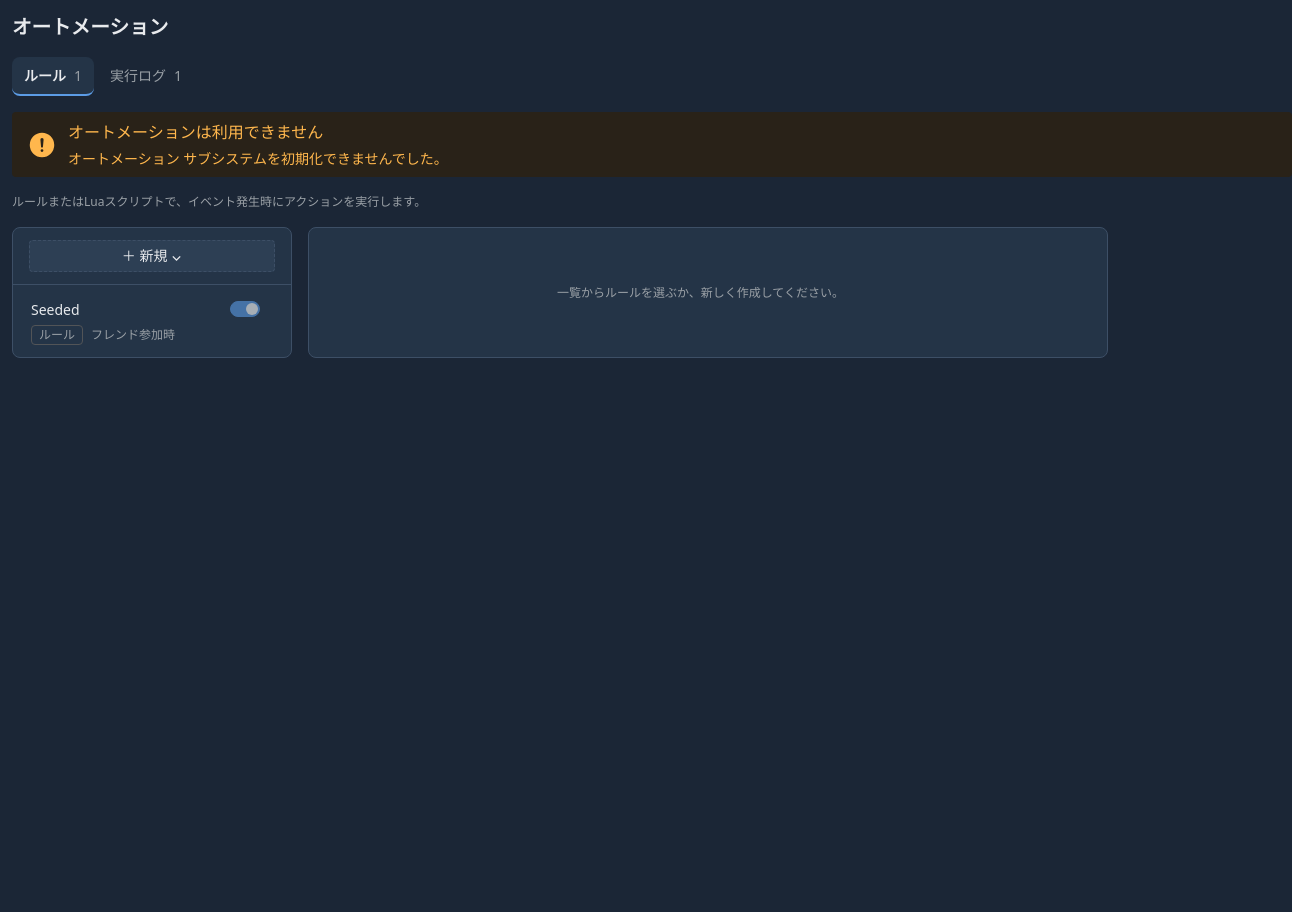
Test: AutomationView layout › disables list and editor controls when automation is unavailable
Check: the button with test id "add-item" is disabled, box [29,240,275,272]
Click the button with class "rule-card__select": (55, 309) [31,300,175,345]
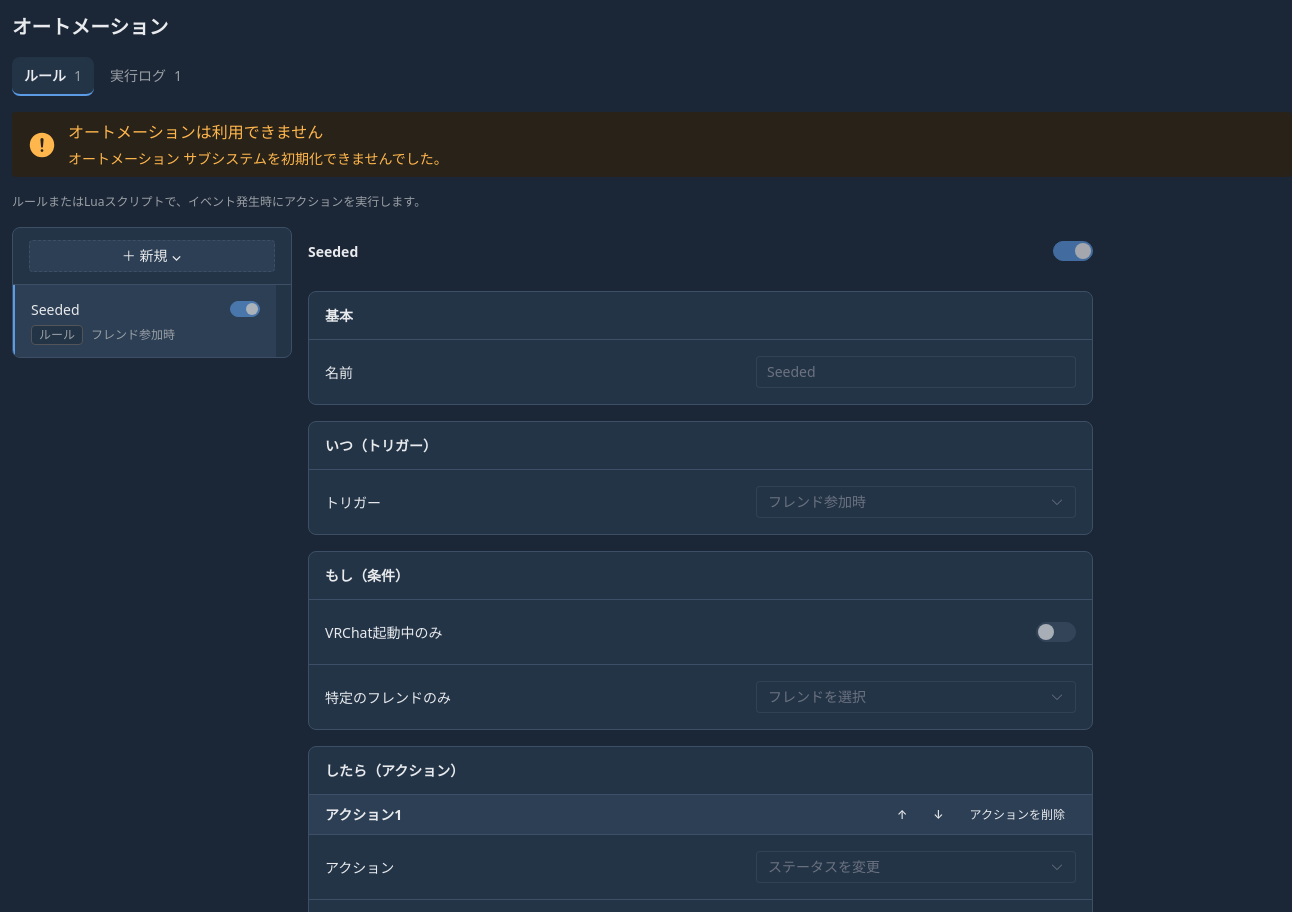
Check: the field with test id "item-name-input" is disabled, box [767,357,1065,387]
